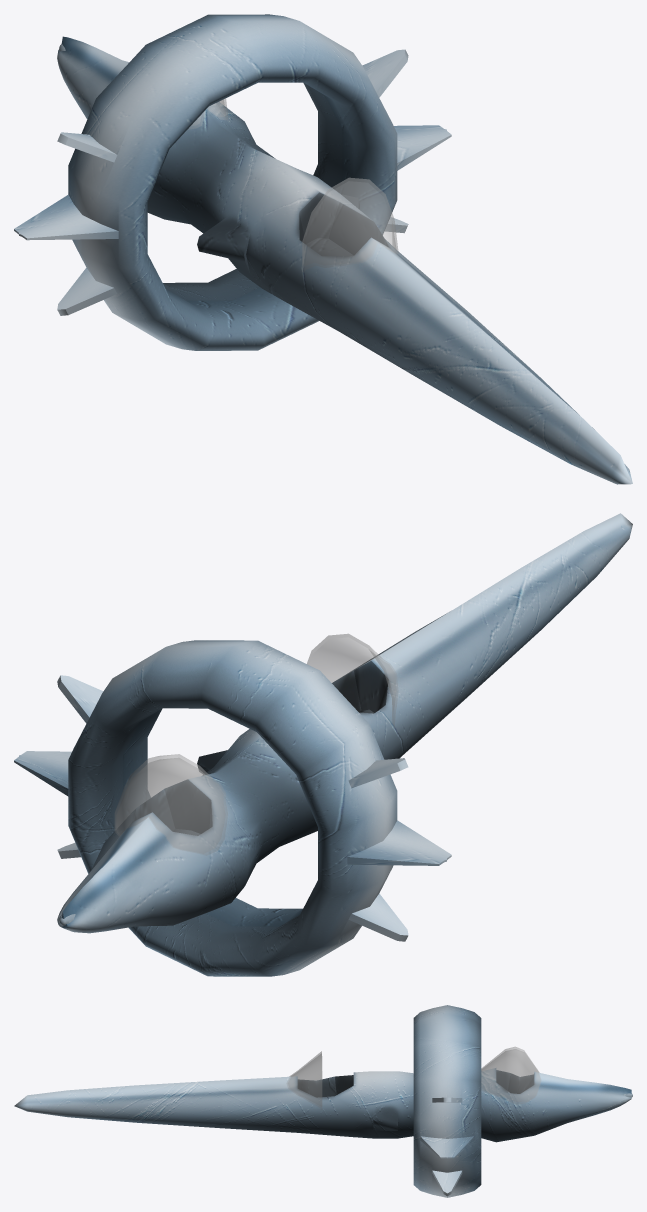
Rendered from Race car 1.fbx.
3 views of the same model, one above another, from view 1: azimuth 30°, elevation 25°; view 2: azimuth 150°, elevation 25°; view 3: azimuth 270°, elevation 25° (orthographic). The views are drawn at different scales.
Parts seen in each view (by area): view 1: pSphere3; view 2: pSphere3; view 3: pSphere3.
Boxes of the visible parts, bbox=[...] form: pSphere3: bbox=[14, 14, 632, 484]; pSphere3: bbox=[14, 513, 632, 976]; pSphere3: bbox=[14, 1005, 632, 1197].
Size of the model in its own units: 7.77 by 5.6 by 17.97.
Materials: 2 (1 with a texture image).
